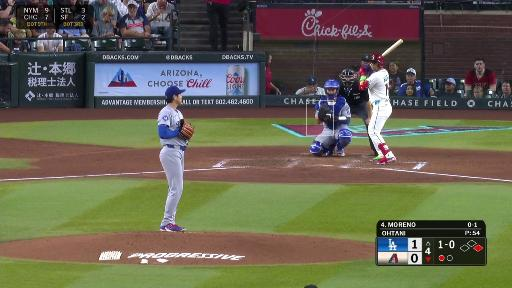pitcher: (157, 84, 196, 231)
